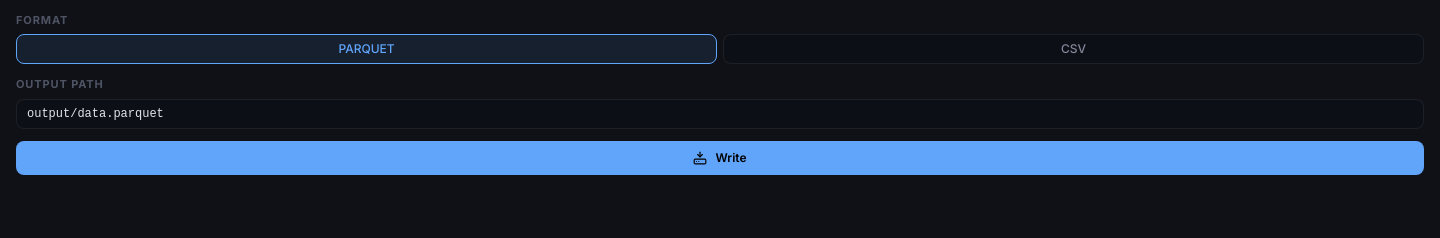
Scenario: SinkEditor › successful write shows success message
Click the button "Write": [720, 158] box x1=16 y1=140 x2=1424 y2=174
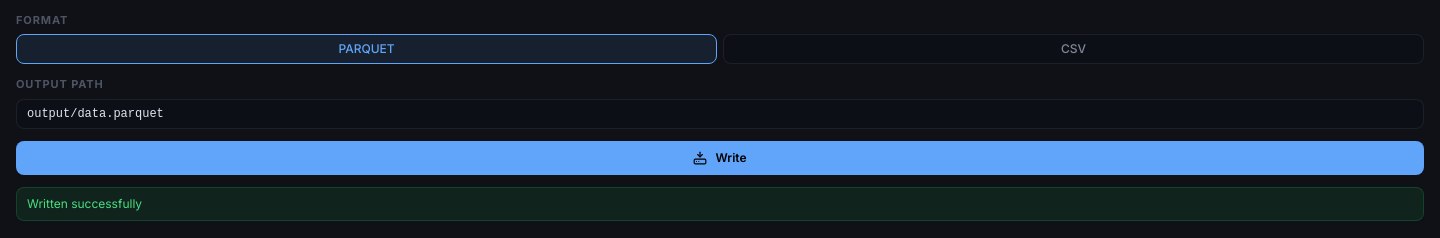
Now the text "Written successfully" is shown, box x1=16 y1=186 x2=1424 y2=220
